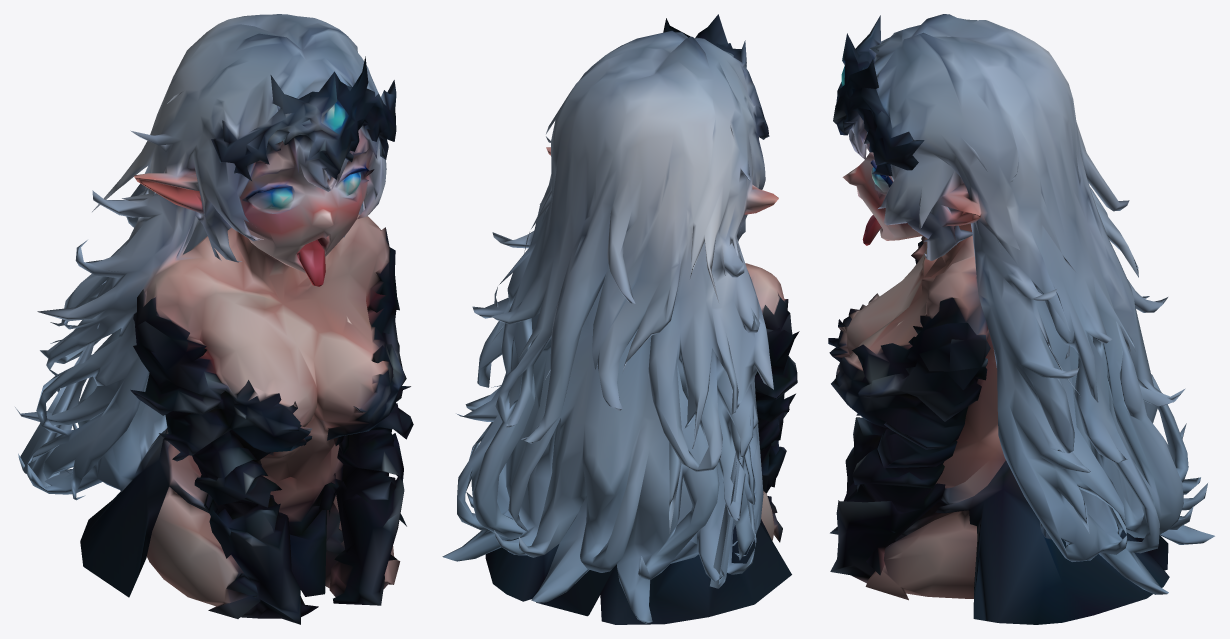
Rendered from 01a1a2e4-1b66-7f1b-bc35-b57eb9c6bdf9.glb.
The picture shows the model from 3 angles, left to right: view 1: azimuth 30°, elevation 25°; view 2: azimuth 150°, elevation 25°; view 3: azimuth 270°, elevation 25°; orthographic projection. The views are drawn at different scales.
Visible parts, largest first — view 1: model; view 2: model; view 3: model.
Boxes of the visible parts, bbox=[...] form: model: bbox=[15, 14, 413, 624]; model: bbox=[442, 14, 799, 624]; model: bbox=[828, 14, 1214, 624].
Size of the model in its own units: 1.21 by 1.89 by 1.25.
